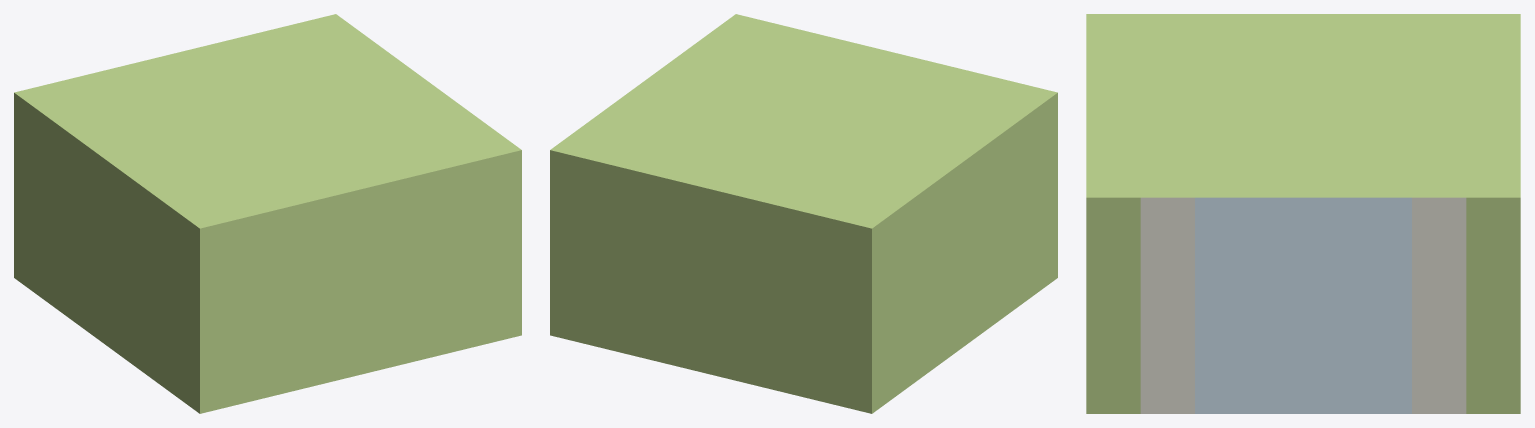
Rendered from roadTile_263.glb.
3 renders of one model, left to right at view 1: azimuth 30°, elevation 25°; view 2: azimuth 150°, elevation 25°; view 3: azimuth 270°, elevation 25°, orthographic. The views are drawn at different scales.
Visible parts, largest first — view 1: Mesh1 Group1 Model; view 2: Mesh1 Group1 Model; view 3: Mesh1 Group1 Model.
Part boxes in pixels (x1=…): Mesh1 Group1 Model: x1=14, y1=14, x2=521, y2=413; Mesh1 Group1 Model: x1=550, y1=14, x2=1057, y2=413; Mesh1 Group1 Model: x1=1086, y1=14, x2=1520, y2=413.
Bounding box in the file's own units: 3 × 1.65 × 3.
